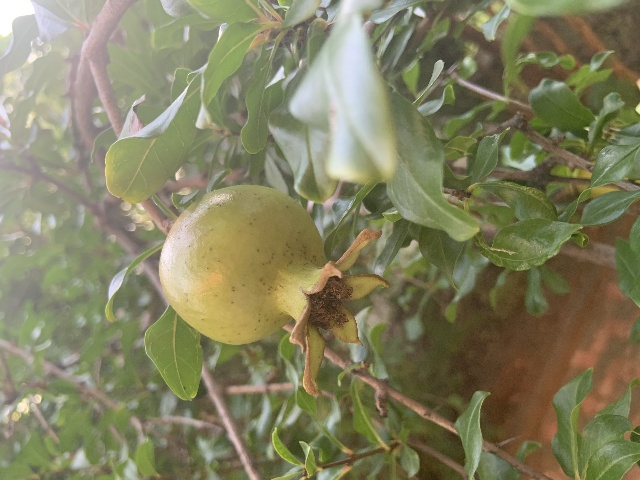mid-growth: (158, 183, 390, 396)
